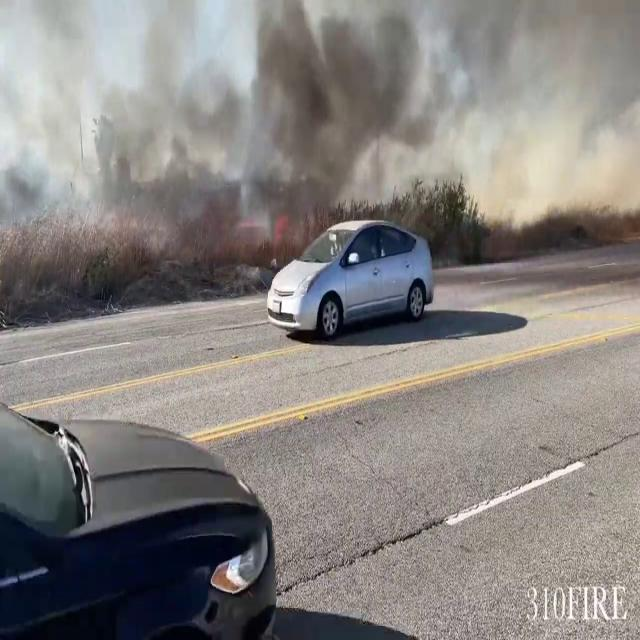Smoke: (231, 0, 618, 216), (0, 0, 267, 272)
